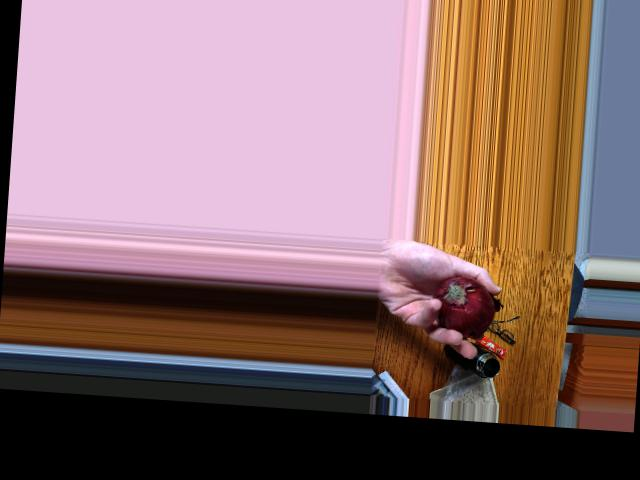onion: (431, 275, 491, 334)
